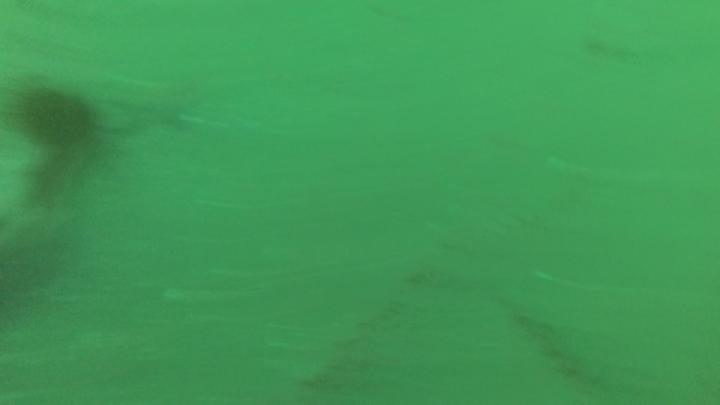echinus: (20, 88, 96, 152)
